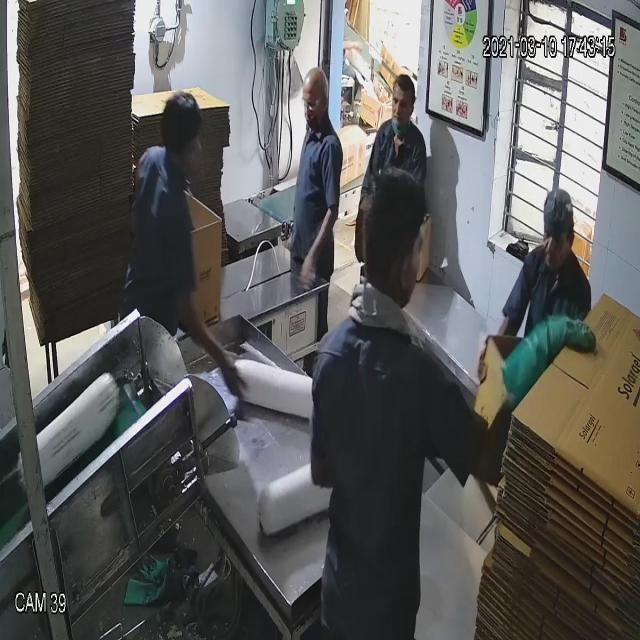No_Gloves: (53, 99, 316, 339)
